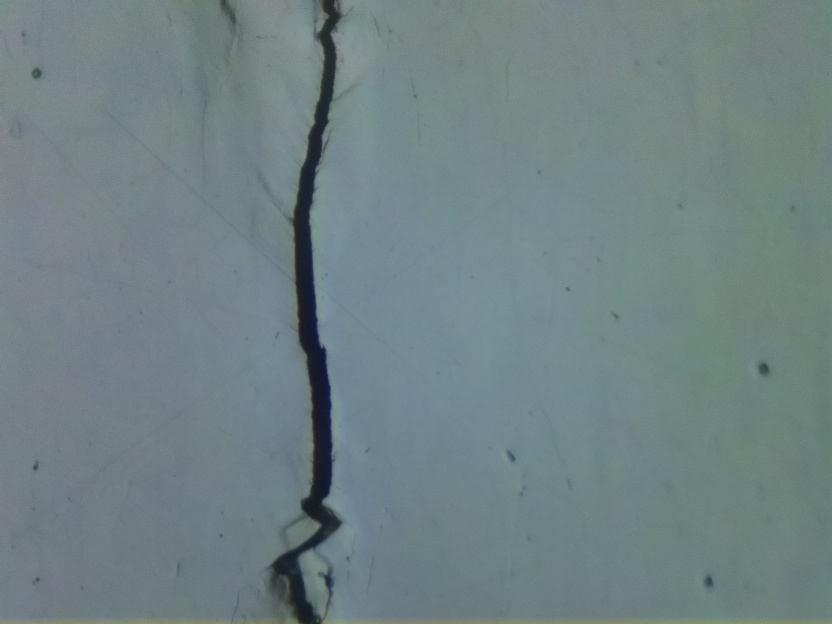crack: (267, 0, 340, 624)
